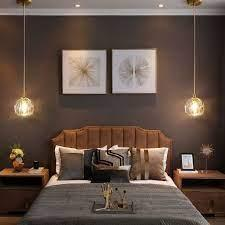bed: (20, 127, 203, 225)
light: (13, 0, 37, 122), (186, 15, 205, 118), (73, 2, 82, 11), (158, 3, 164, 7)
table: (175, 170, 224, 225), (0, 168, 48, 221)
